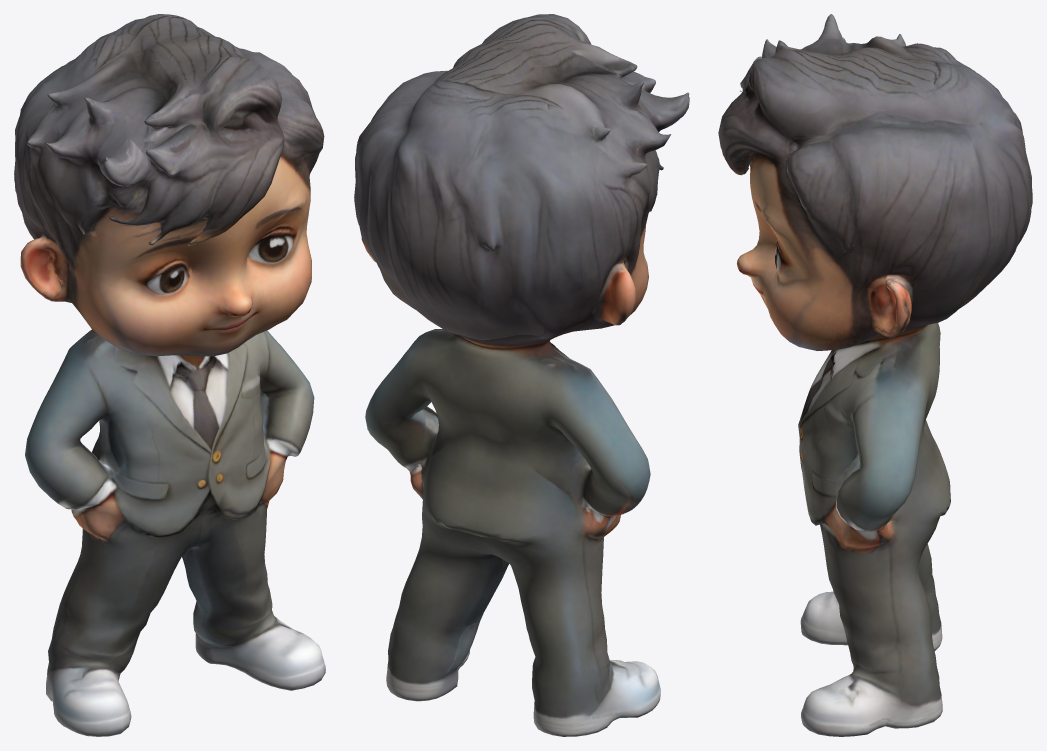
The model's file is Dapper_Cartoon_Kid_0221181241_texture.glb.
3 views of the same model, side by side, from view 1: azimuth 30°, elevation 25°; view 2: azimuth 150°, elevation 25°; view 3: azimuth 270°, elevation 25° (orthographic). The views are drawn at different scales.
Bounding box in the file's own units: 0.912 × 1.99 × 0.8978.
Materials: 1 (1 with a texture image).
